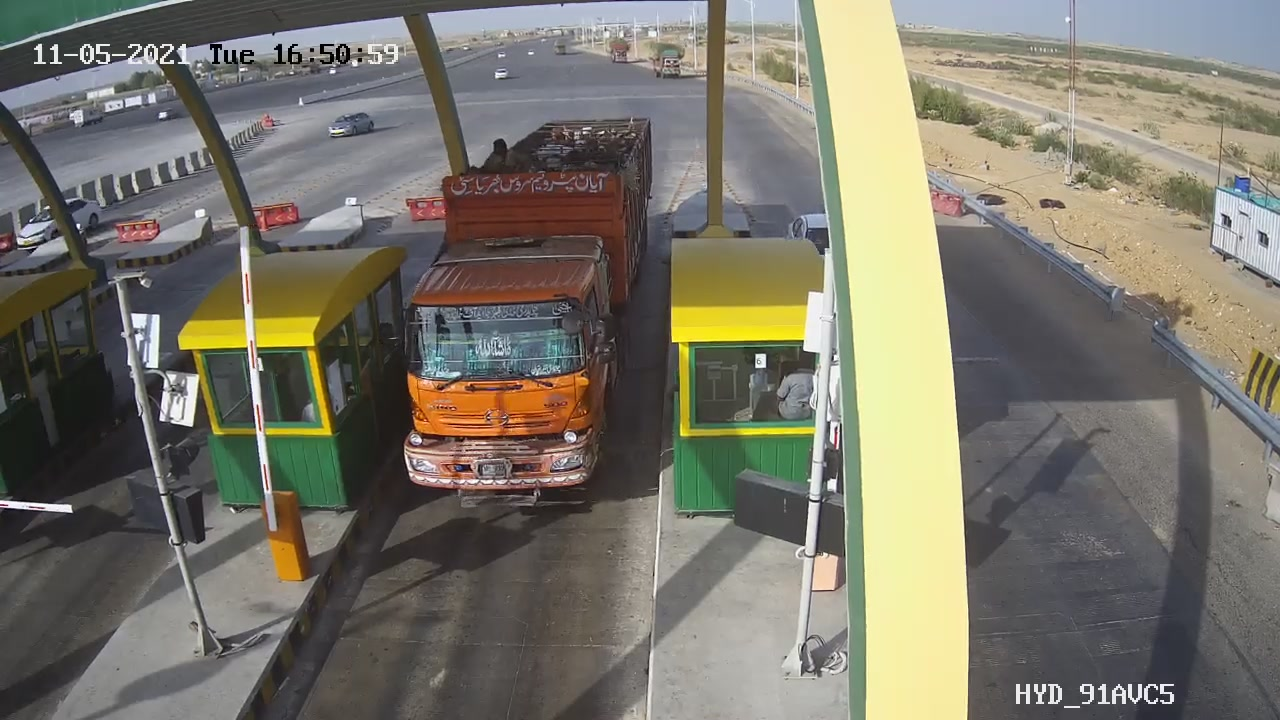F6: (376, 106, 670, 529)
